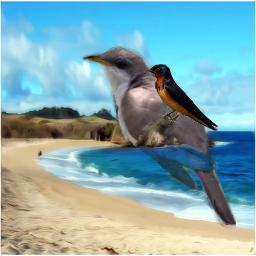Cuckoo: (79, 43, 236, 232)
Swallow: (144, 64, 218, 132)
